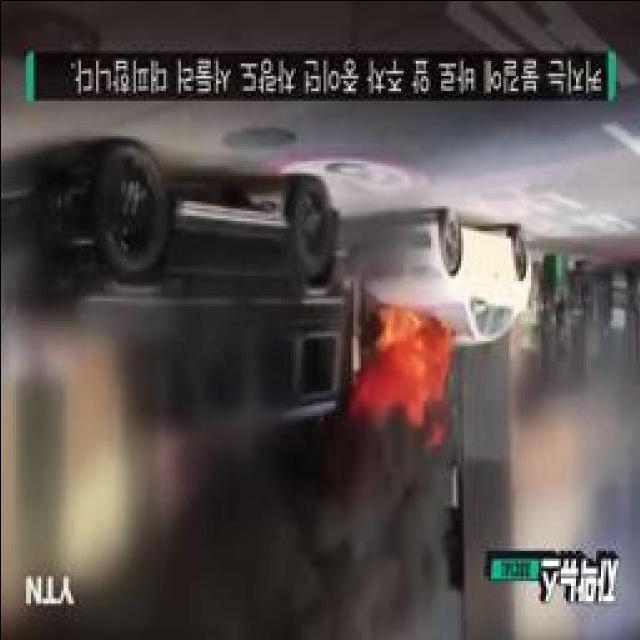Fire: (371, 308, 447, 402)
